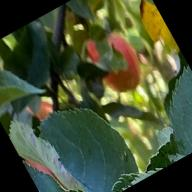Apples: (2, 95, 88, 192), (83, 24, 150, 100)
